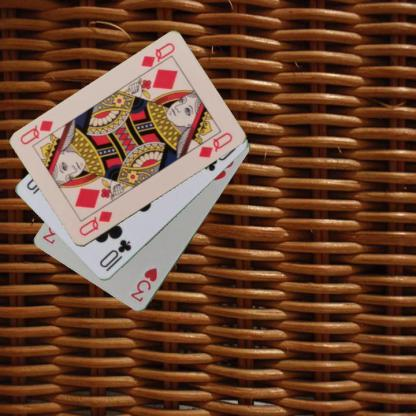10c: (96, 237, 133, 273)
3h: (128, 265, 159, 304)
Qd: (138, 40, 176, 76), (76, 208, 114, 238)
